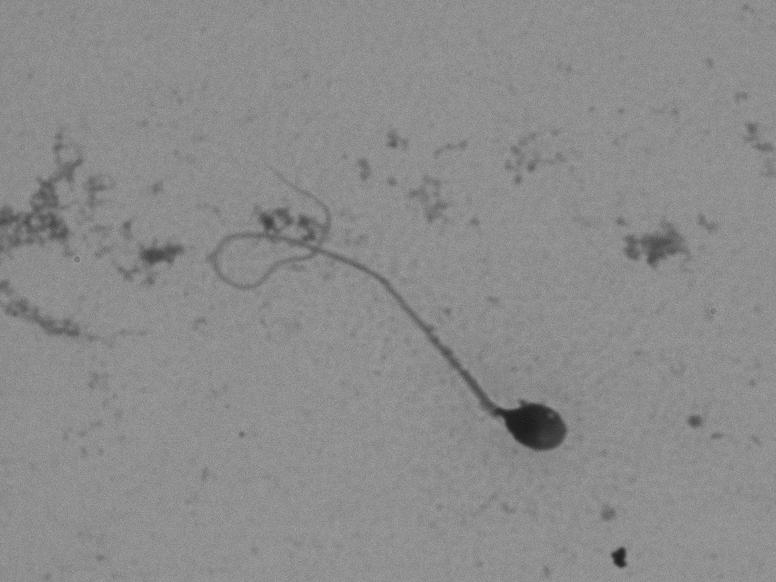Abnormal: (201, 118, 596, 475)
